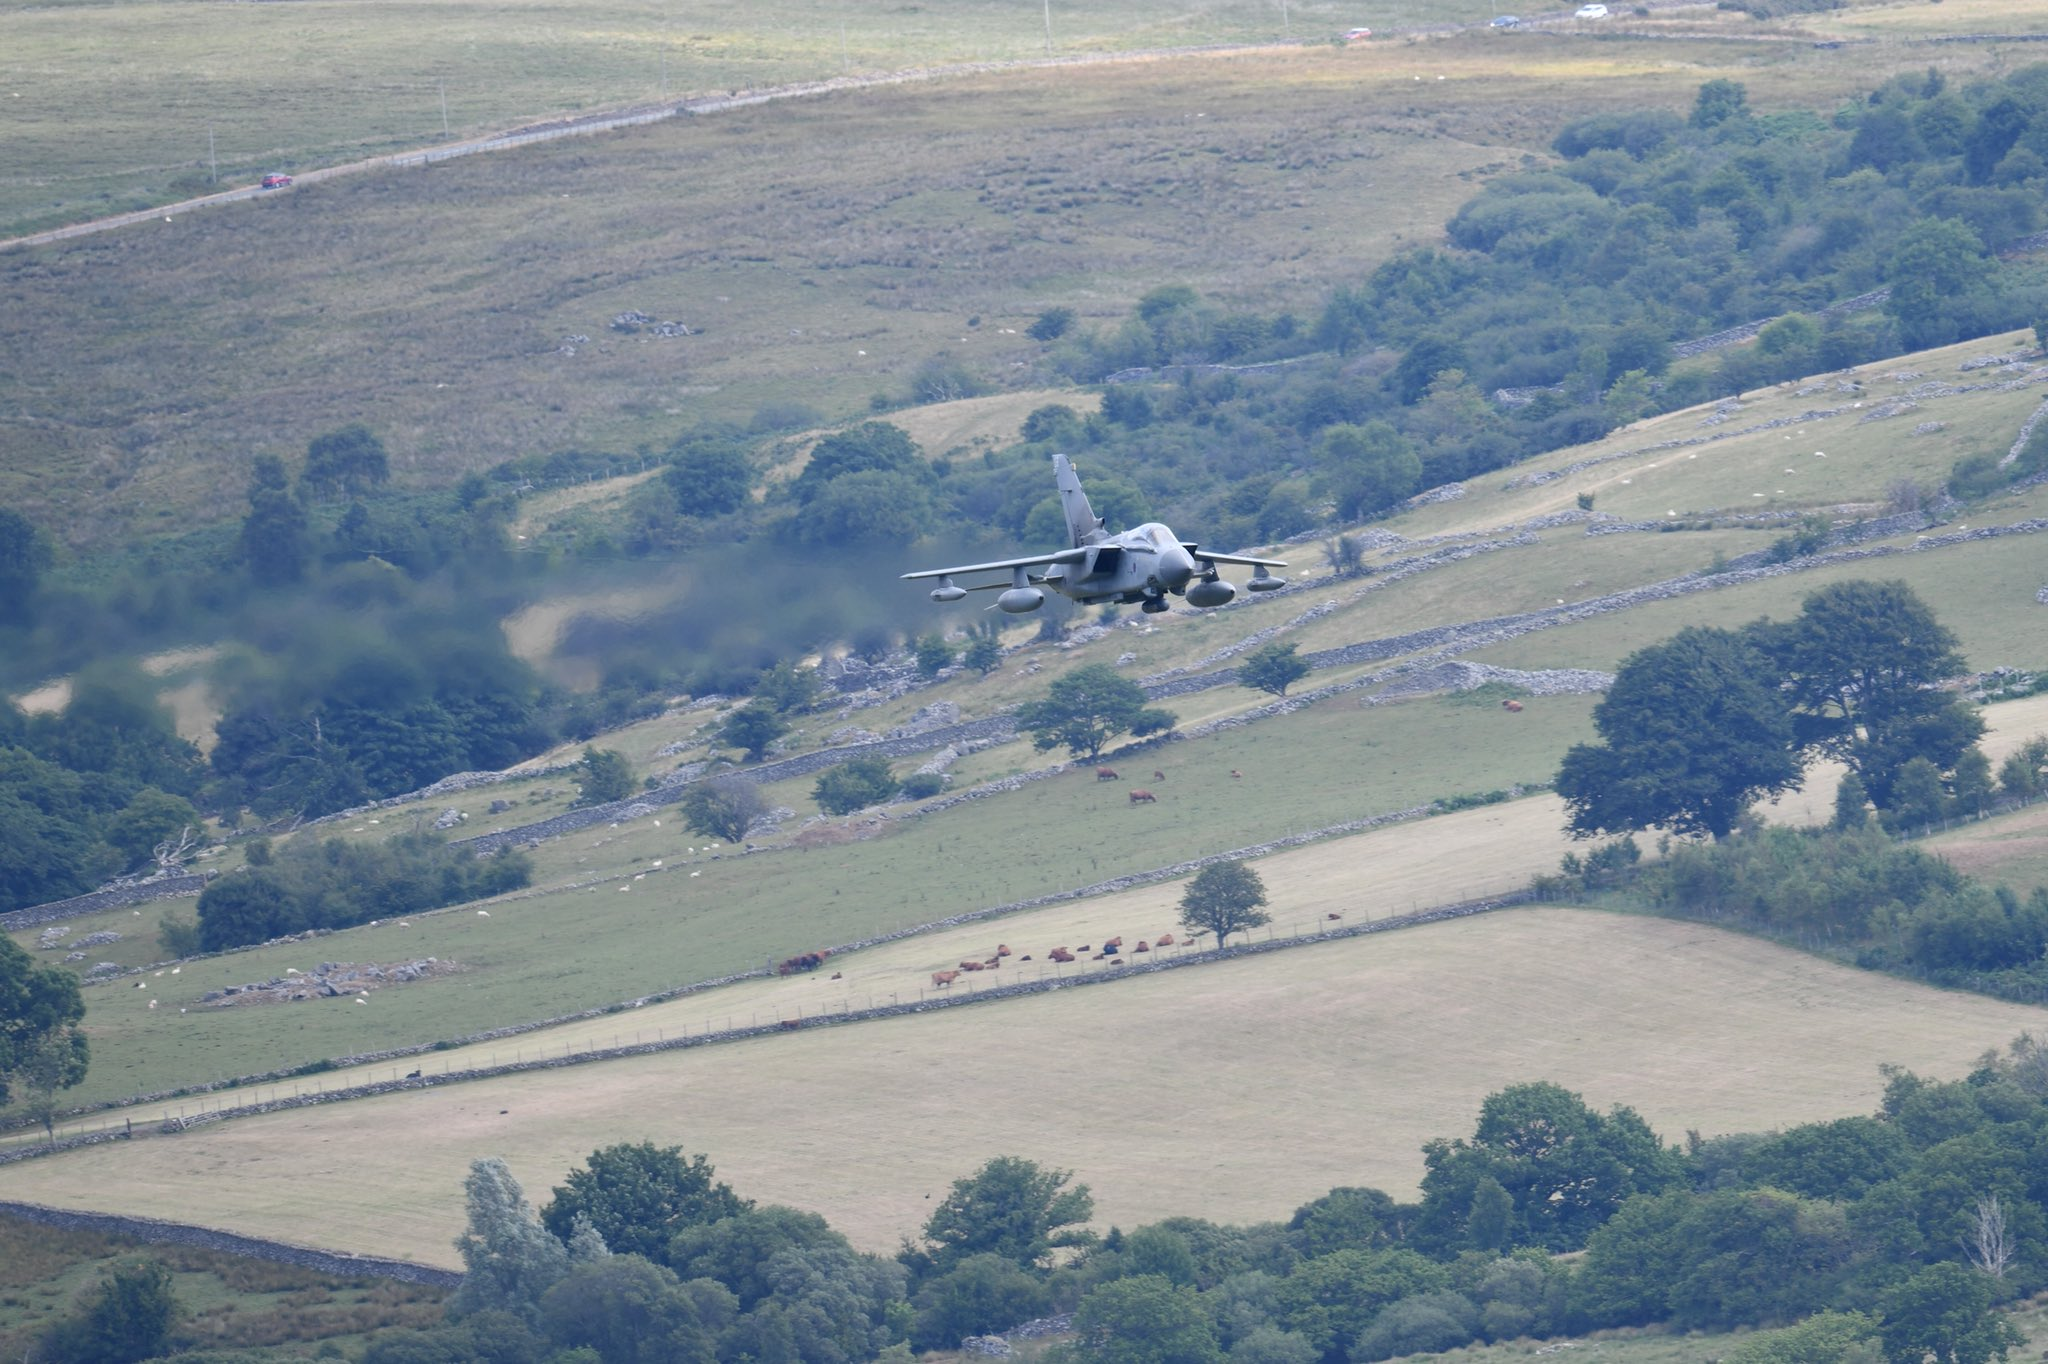Tornado: (898, 454, 1289, 613)
